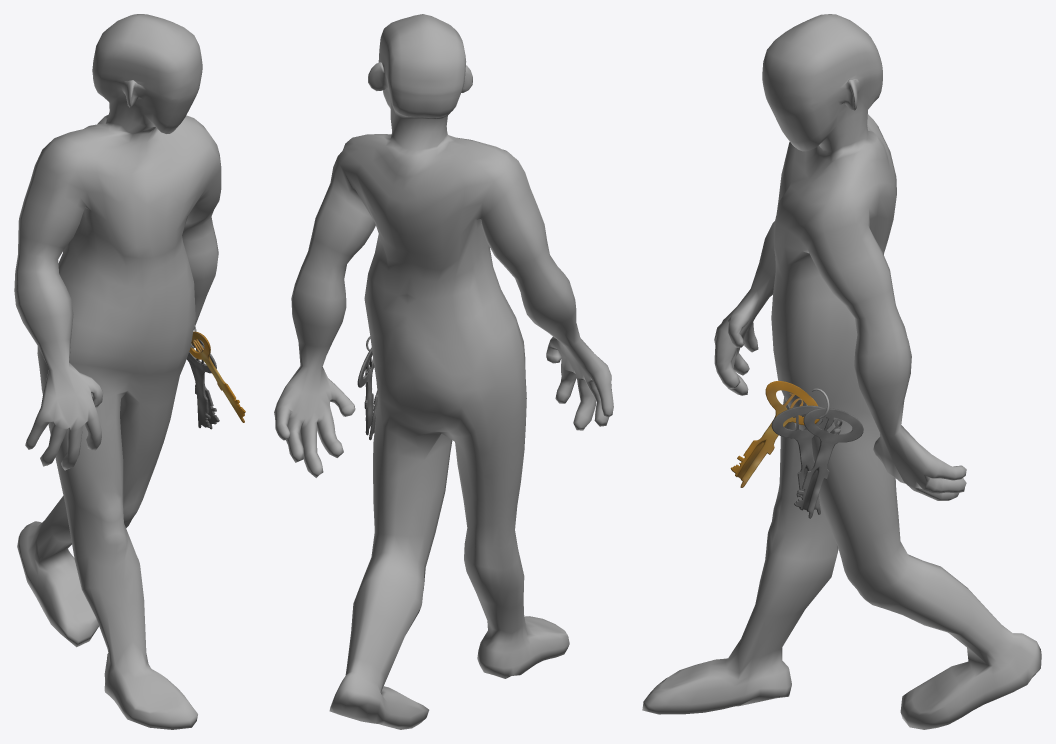
Rendered from nursewalkingmodel.fbx.
The picture shows the model from 3 angles, left to right: view 1: azimuth 30°, elevation 25°; view 2: azimuth 150°, elevation 25°; view 3: azimuth 270°, elevation 25°; orthographic projection. The views are drawn at different scales.
Parts seen in each view (by area): view 1: mesh, key10, key11; view 2: mesh, typeMesh1; view 3: mesh, typeMesh1, key10, key11.
Boxes of the visible parts, left/top/right/bottom form: mesh: left=14, top=14, right=221, bottom=729; key10: left=189, top=331, right=245, bottom=422; key11: left=187, top=342, right=216, bottom=427; mesh: left=274, top=14, right=613, bottom=729; typeMesh1: left=357, top=348, right=374, bottom=435; mesh: left=642, top=14, right=1041, bottom=729; typeMesh1: left=794, top=408, right=863, bottom=518; key10: left=730, top=381, right=819, bottom=487; key11: left=771, top=405, right=833, bottom=514.
Size of the model in its own units: 21.87 by 55.17 by 27.81.
9 materials, 7 textured.
